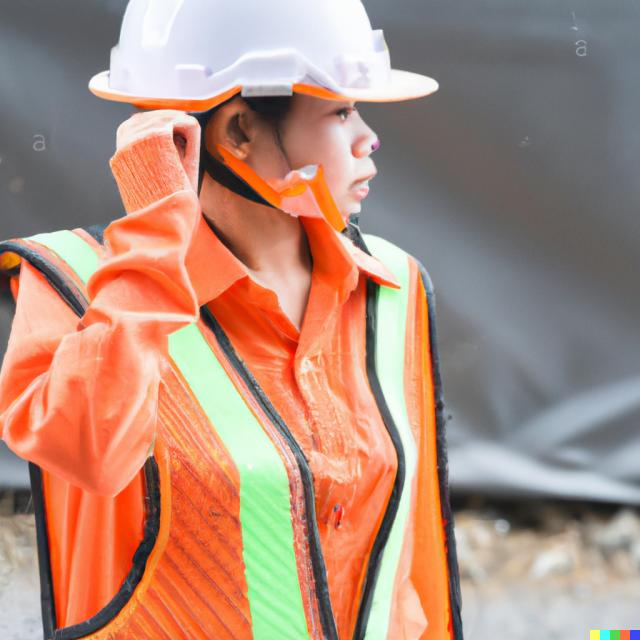Reflective-Jacket: (2, 193, 474, 640)
Safety-Helmet: (90, 0, 438, 113)
